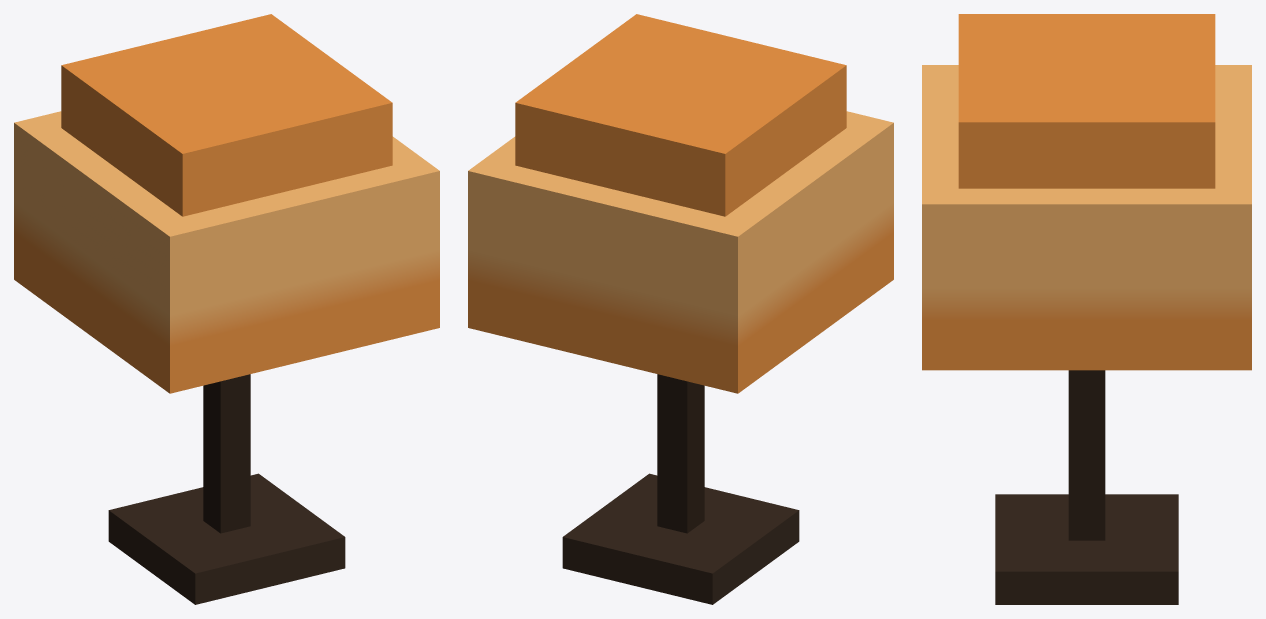
File: ObstacleLamp.fbx
3 renders of one model, left to right at view 1: azimuth 30°, elevation 25°; view 2: azimuth 150°, elevation 25°; view 3: azimuth 270°, elevation 25°, orthographic. The views are drawn at different scales.
Visible parts, largest first — view 1: Lamp; view 2: Lamp; view 3: Lamp.
Boxes of the visible parts, x1,y1,x2,y2 form: Lamp: (14, 14, 439, 604); Lamp: (468, 14, 893, 604); Lamp: (922, 14, 1251, 604).
Bounding box in the file's own units: 9 × 15 × 9.
1 material, 1 textured.
